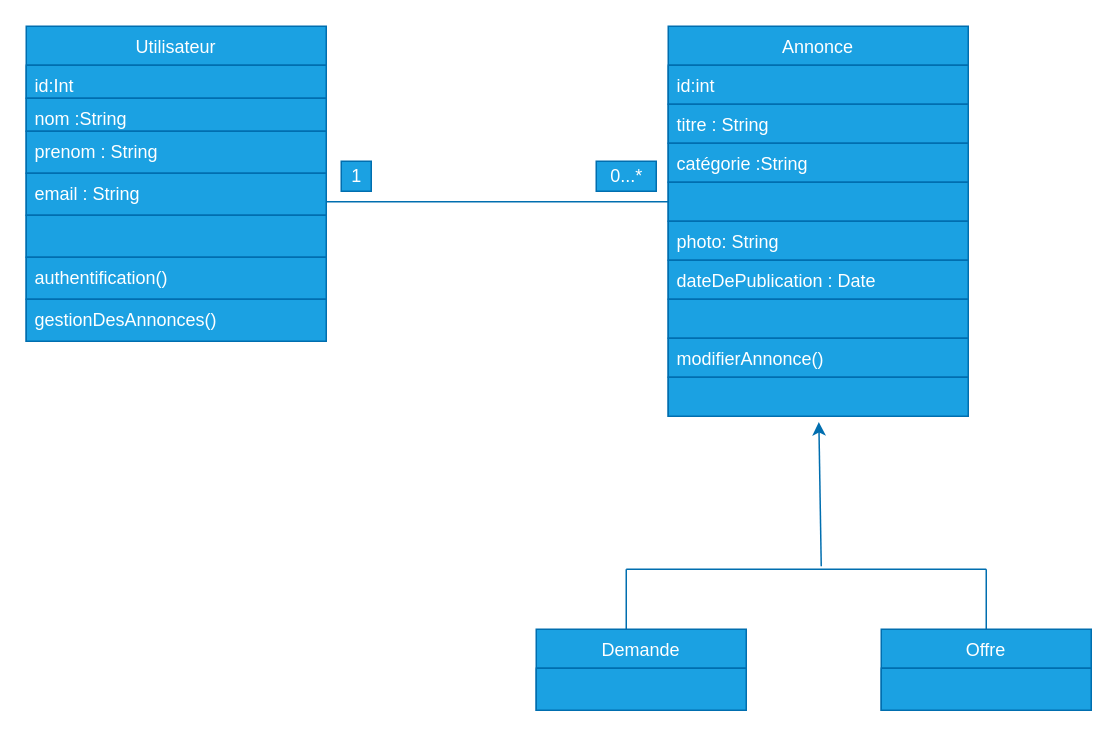
Image size: 1118x741. Some labels were removed from this diagram. The shapes that lost their labels are listed below. From the top down, each one's centre as x and y in pixels, then its label:
At (x=817, y=201): "description : String".
At (x=175, y=235): "Password: String".
At (x=817, y=318): "ajouterAnnonce()".
At (x=817, y=396): "supprimerAnnonce()".
At (x=985, y=688): "prix:Float".
